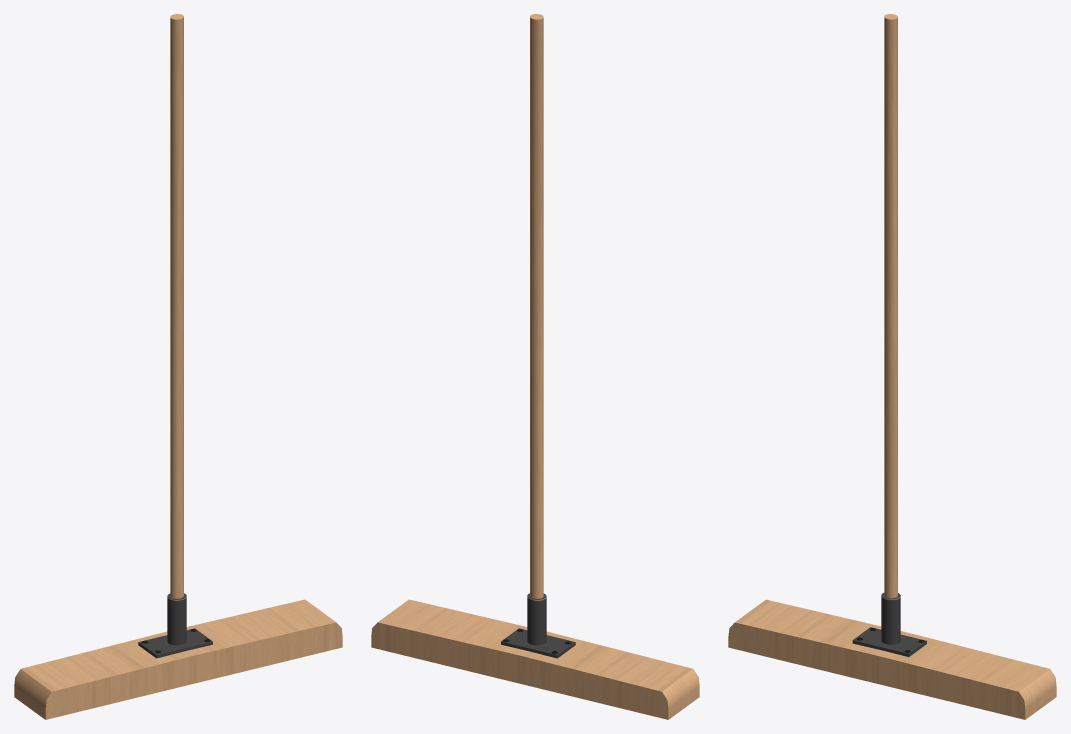
Rendered from LV1_Broom.fbx.
3 renders of one model, left to right at view 1: azimuth 30°, elevation 25°; view 2: azimuth 150°, elevation 25°; view 3: azimuth 330°, elevation 25°, orthographic.
Parts seen in each view (by area): view 1: polySurface7; view 2: polySurface7; view 3: polySurface7.
Part boxes in pixels (bbox=[...]): polySurface7: bbox=[14, 14, 342, 719]; polySurface7: bbox=[371, 14, 699, 719]; polySurface7: bbox=[728, 14, 1056, 719].
Bounding box in the file's own units: 3.73 × 7.87 × 0.6819.
